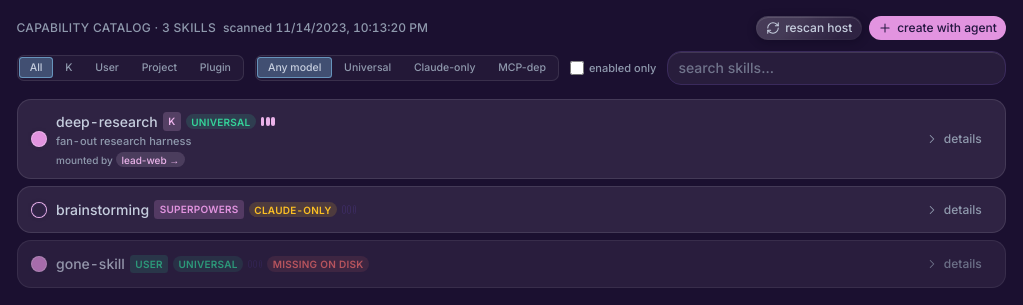
Test: CatalogTab — filters › text search narrows the list
The image size is (1023, 305).
Expected: the element with test id "catalog-row-deep-research" is shown, [16,99,1006,179]
Type "brainstorm" into the field with test id "catalog-search". click: (836, 68)
box: [667,50,1006,85]
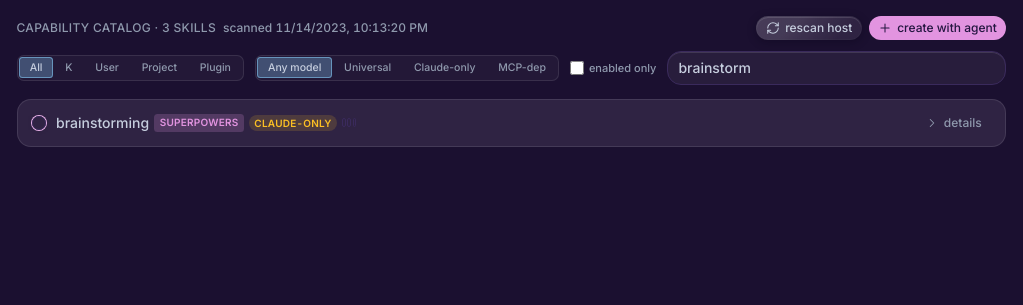
Expected: the element with test id "catalog-row-plugin:superpowers@obra:brainstorming" is shown, [16,99,1006,146]
Result: the element with test id "catalog-row-deep-research" is gone
